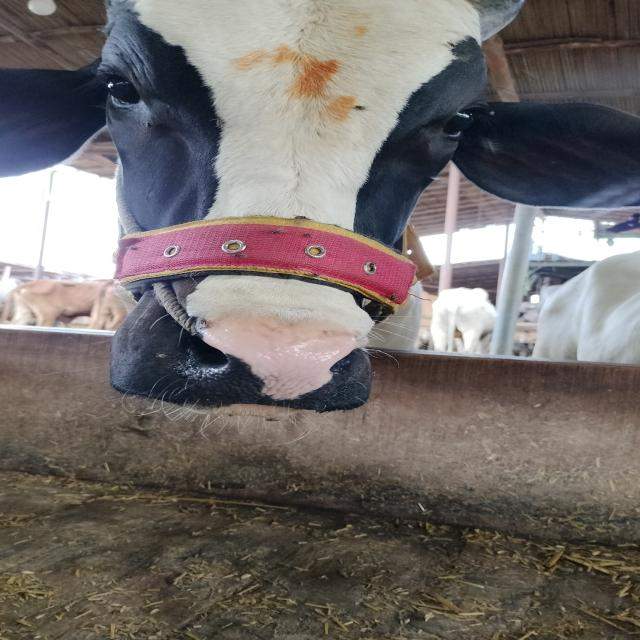muzzles: (156, 303, 369, 408)
